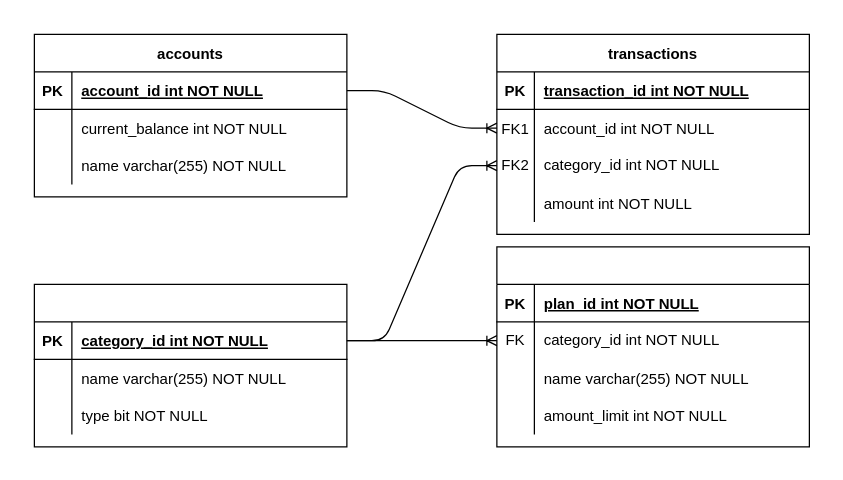
Some shapes in this 843 by 480 pixel diagram are drawn without their labels. The box of each missing label's shape, as (x1, y1, x2, y2) in pixels:
categories: (33, 283, 347, 447)
plans: (496, 246, 809, 447)
